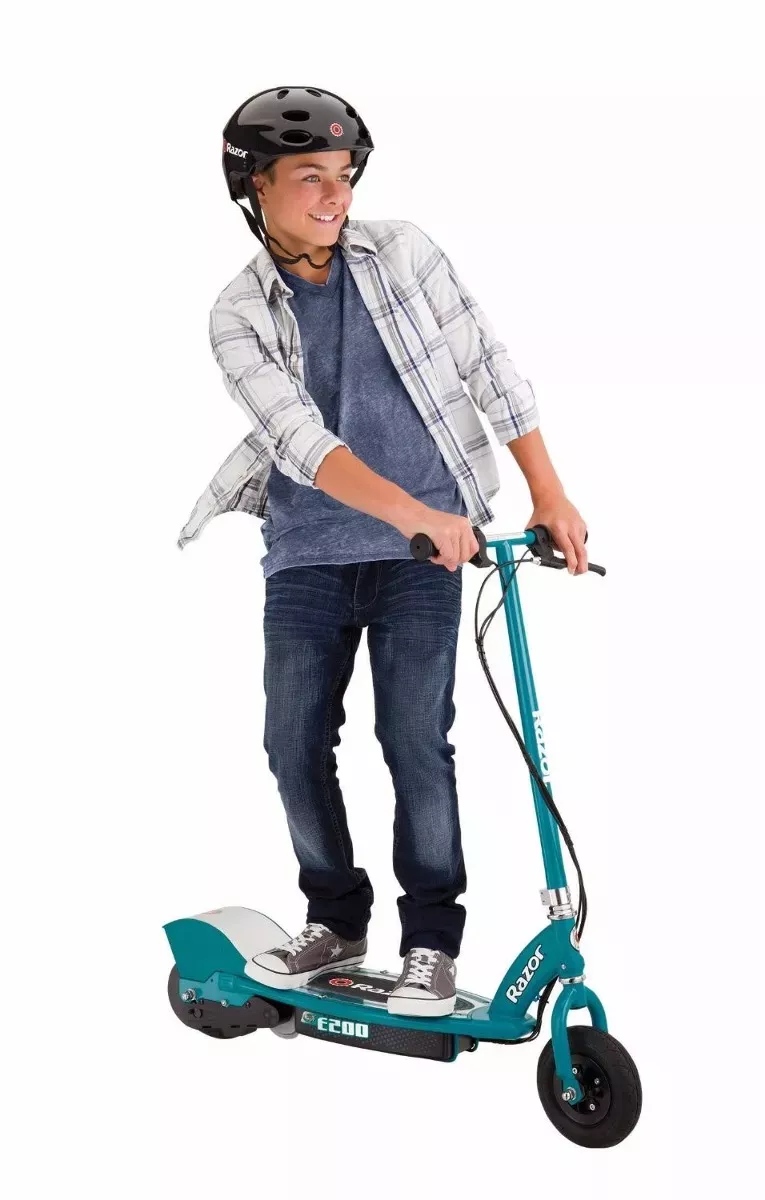scooter: (162, 522, 648, 1159)
with helmet: (218, 83, 382, 252)
